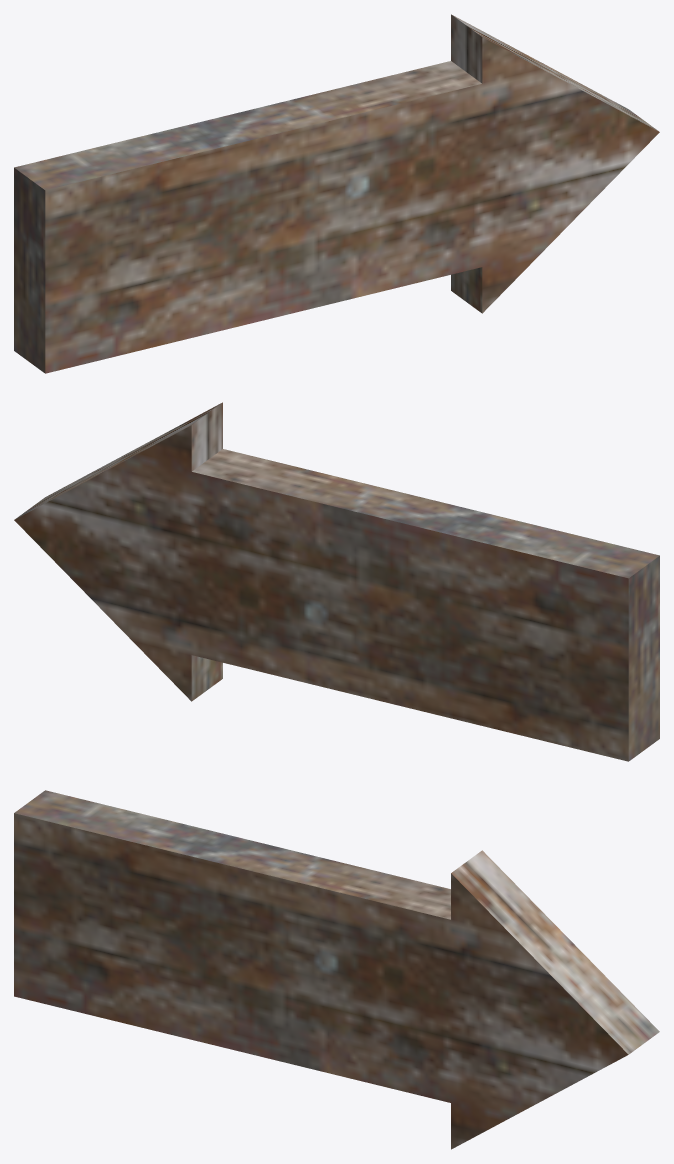
Rendered from Sign2.fbx.
The picture shows the model from 3 angles, top to bottom: view 1: azimuth 30°, elevation 25°; view 2: azimuth 150°, elevation 25°; view 3: azimuth 330°, elevation 25°; orthographic projection.
Visible parts, largest first — view 1: Sign2; view 2: Sign2; view 3: Sign2.
Boxes of the visible parts, left/top/right/bottom form: Sign2: left=14, top=14, right=659, bottom=373; Sign2: left=14, top=402, right=659, bottom=761; Sign2: left=14, top=790, right=659, bottom=1149.
Bounding box in the file's own units: 136 × 58.68 × 12.04.
Materials: 1 (1 with a texture image).
